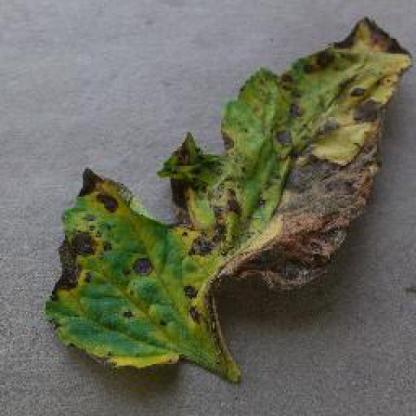Tomato_Blight: (44, 16, 414, 372)
